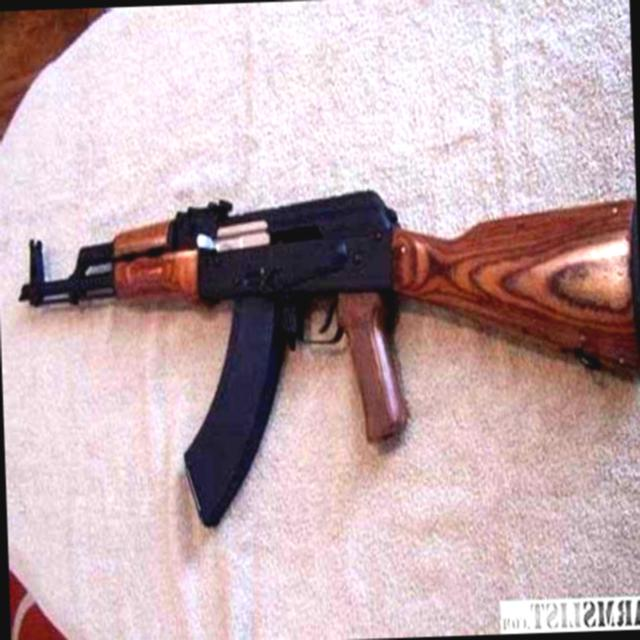ak: (10, 189, 640, 545)
